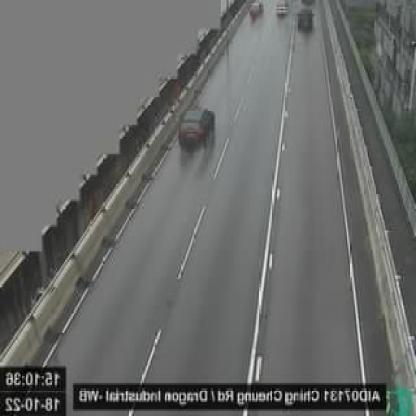Car: (177, 107, 215, 155), (294, 7, 315, 34), (246, 0, 264, 21), (273, 0, 290, 19)
